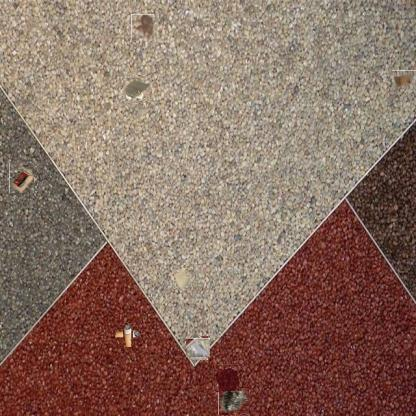dirty: (218, 387, 249, 415), (8, 165, 36, 192), (123, 76, 149, 102), (188, 337, 209, 359), (392, 70, 416, 89), (172, 269, 192, 289), (120, 325, 138, 343)
liquid: (213, 364, 239, 392), (131, 14, 154, 41)
